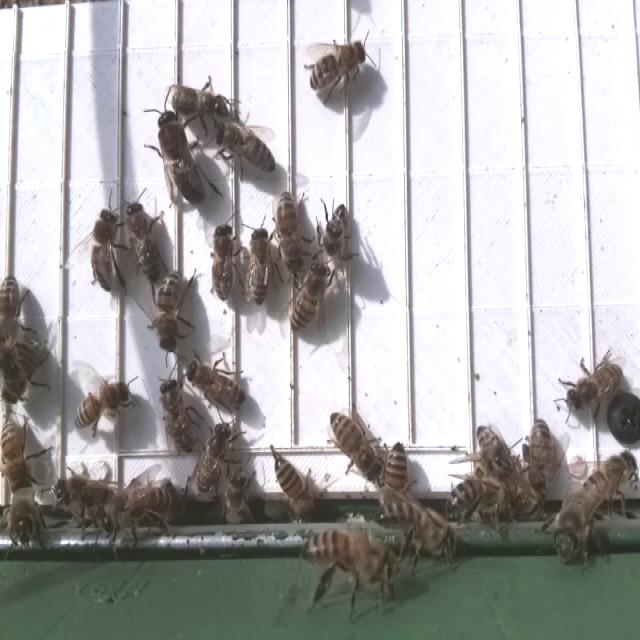Drone: (155, 107, 209, 214)
Worker: (325, 405, 381, 485), (211, 121, 281, 176), (562, 356, 623, 417), (307, 39, 370, 95), (69, 380, 136, 432), (123, 199, 163, 286), (158, 372, 198, 458), (87, 205, 123, 295), (289, 260, 330, 337), (186, 359, 250, 408), (0, 413, 36, 499), (194, 419, 234, 495), (273, 186, 307, 273), (154, 271, 187, 360), (170, 80, 234, 124), (524, 414, 556, 501), (245, 224, 273, 308), (210, 218, 237, 304), (0, 273, 27, 359), (384, 436, 410, 518)
